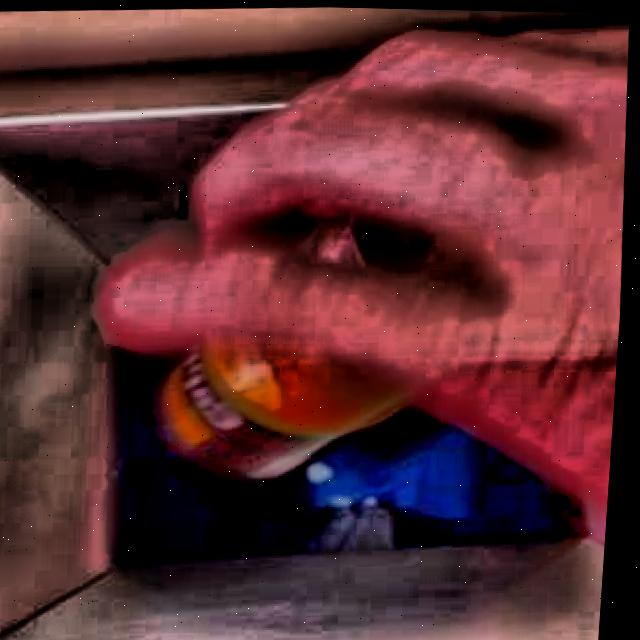metal: (163, 345, 411, 480)
